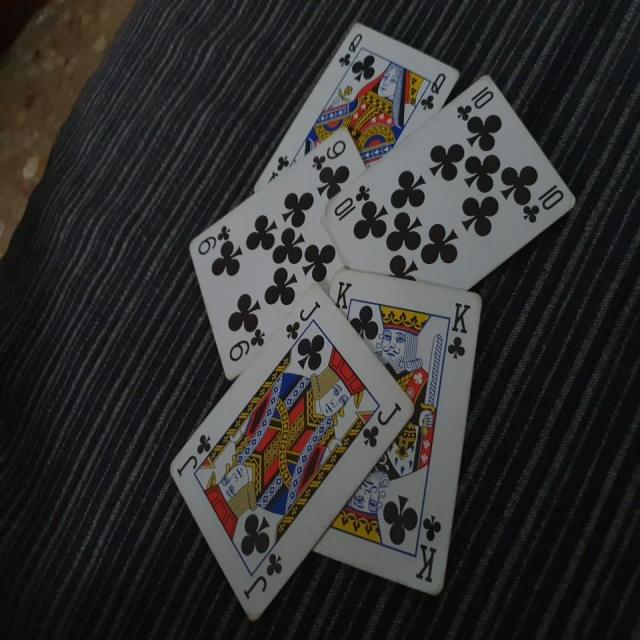10 Trefoils: (325, 69, 576, 290)
9 Trefoils: (185, 124, 368, 378)
J Trefoils: (169, 281, 414, 622)
K Trefoils: (312, 268, 481, 600)
Q Trefoils: (252, 21, 461, 194)
